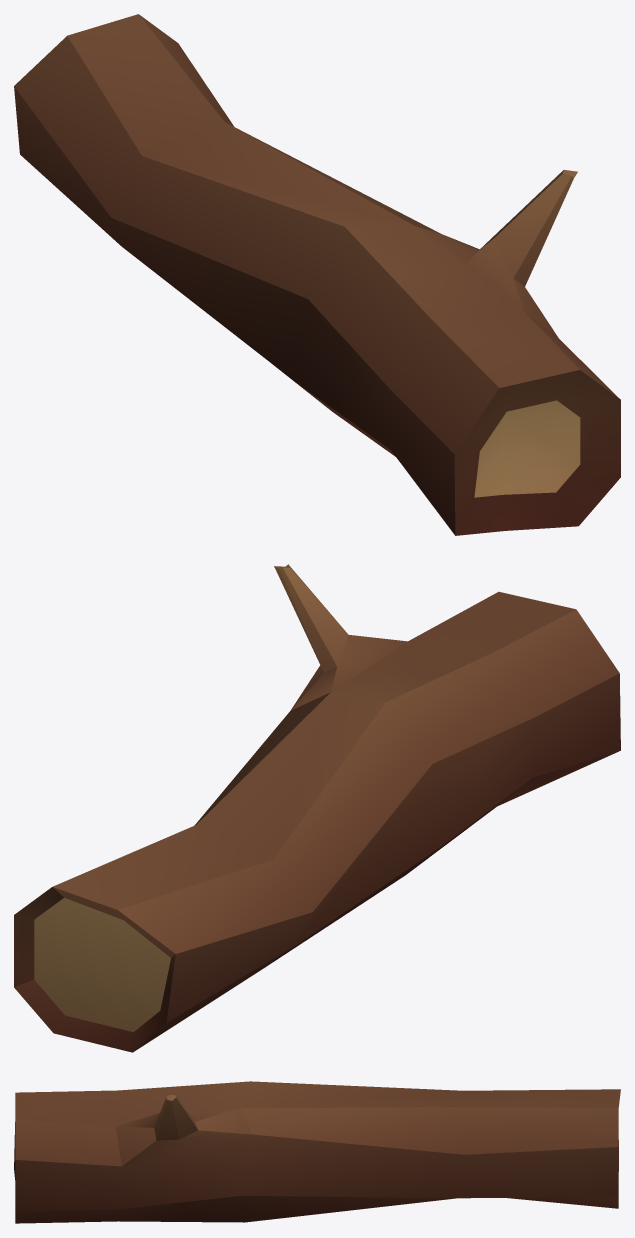
The model's file is log.fbx.
The picture shows the model from 3 angles, top to bottom: view 1: azimuth 30°, elevation 25°; view 2: azimuth 150°, elevation 25°; view 3: azimuth 270°, elevation 25°; orthographic projection. The views are drawn at different scales.
Parts seen in each view (by area): view 1: Cube; view 2: Cube; view 3: Cube.
Part boxes in pixels (x1,y1,x2,y2): Cube: (14, 14, 620, 535); Cube: (14, 564, 620, 1052); Cube: (14, 1081, 620, 1223).
Size of the model in its own units: 339 by 311 by 1053.
Materials: 1 (1 with a texture image).
